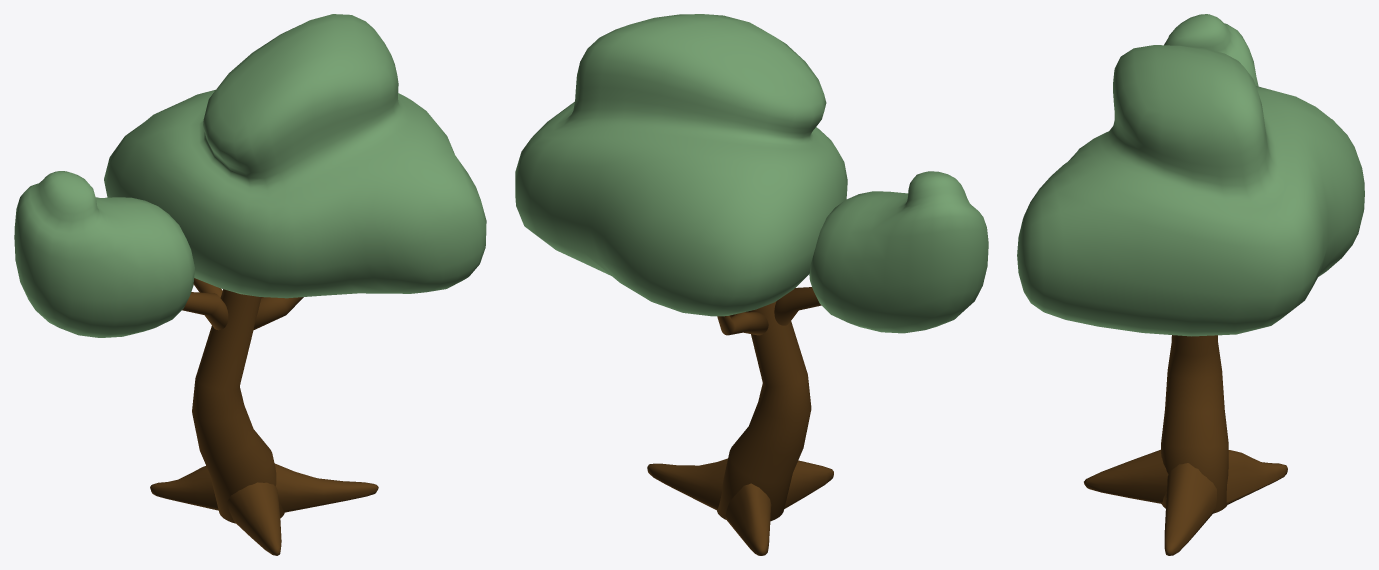
Rendered from tree9.fbx.
3 renders of one model, left to right at view 1: azimuth 30°, elevation 25°; view 2: azimuth 150°, elevation 25°; view 3: azimuth 270°, elevation 25°, orthographic. The views are drawn at different scales.
Parts seen in each view (by area): view 1: tree9; view 2: tree9; view 3: tree9.
Boxes of the visible parts, bbox=[...] form: tree9: bbox=[14, 14, 486, 555]; tree9: bbox=[515, 14, 988, 555]; tree9: bbox=[1017, 14, 1364, 555].
Size of the model in its own units: 795 by 830 by 548.
